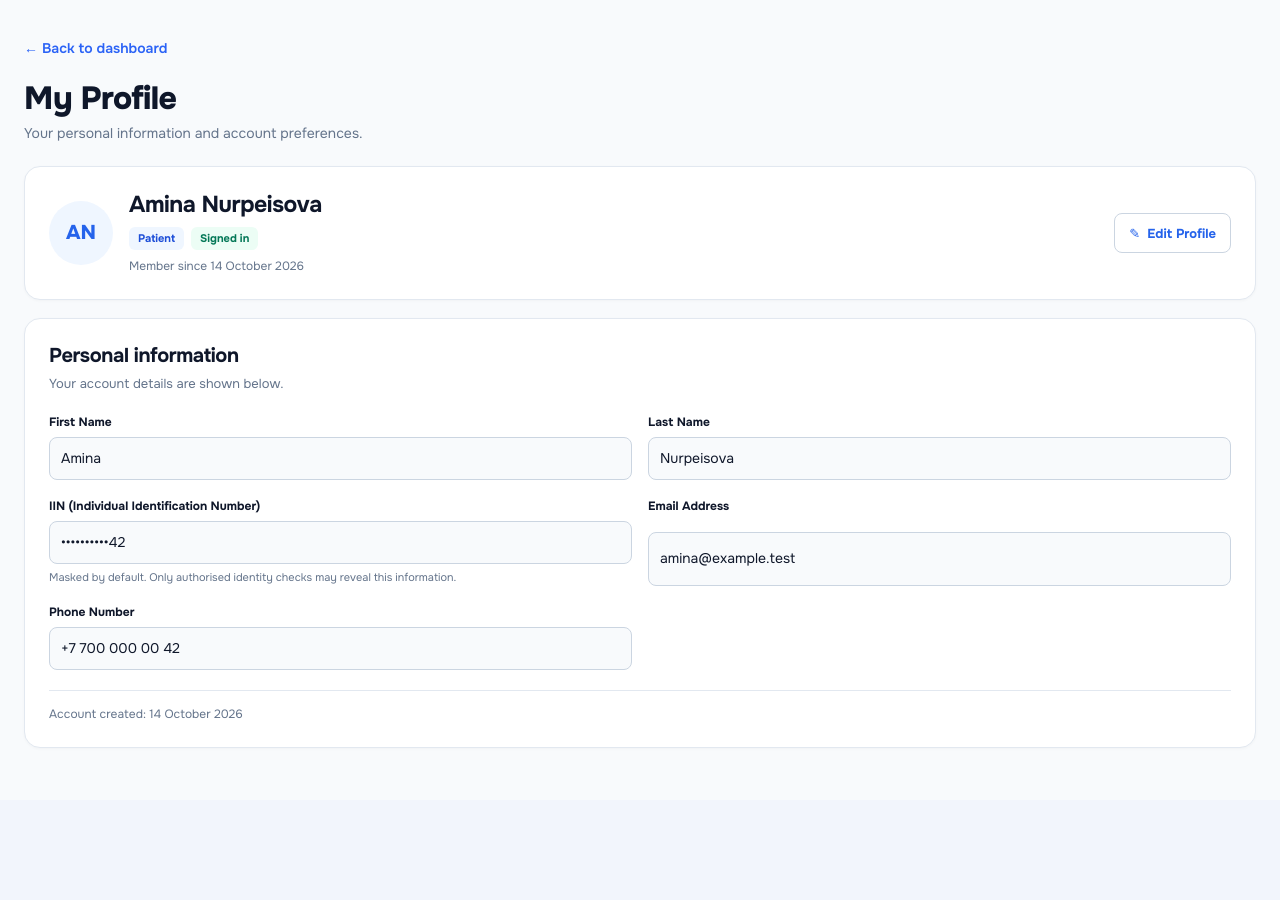
it: patient profile › saves editable contact details through the authenticated profile action
The width and height of the screenshot is (1280, 900).
Expected: the heading "Amina Nurpeisova" is shown, [129,191,322,220]
Click the button with aria-label "Edit personal profile" at (1173, 233), box [1114,213,1231,253]
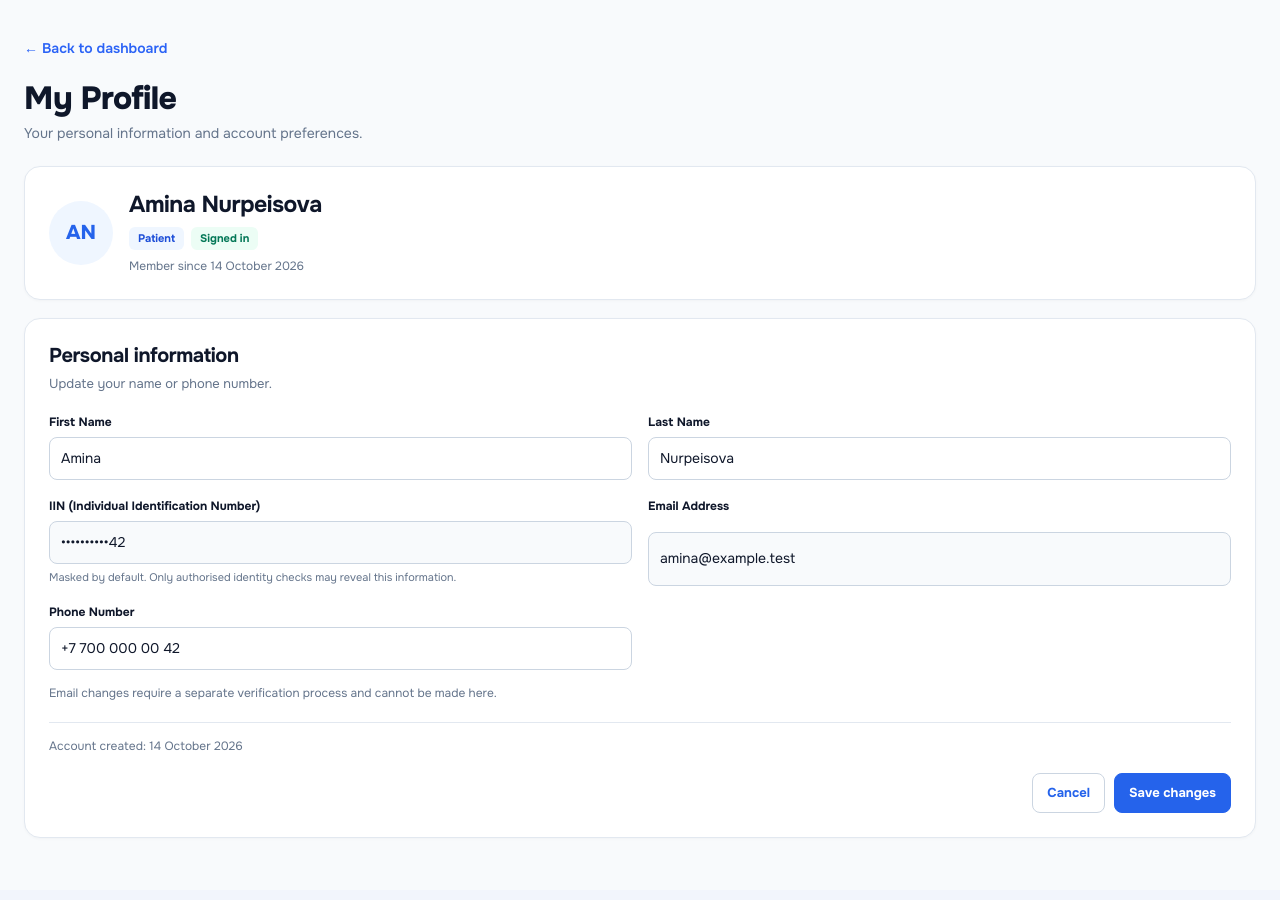
Replace the text in the field labelled "First Name" with "Amira" at (340, 458), box [49,437,632,480]
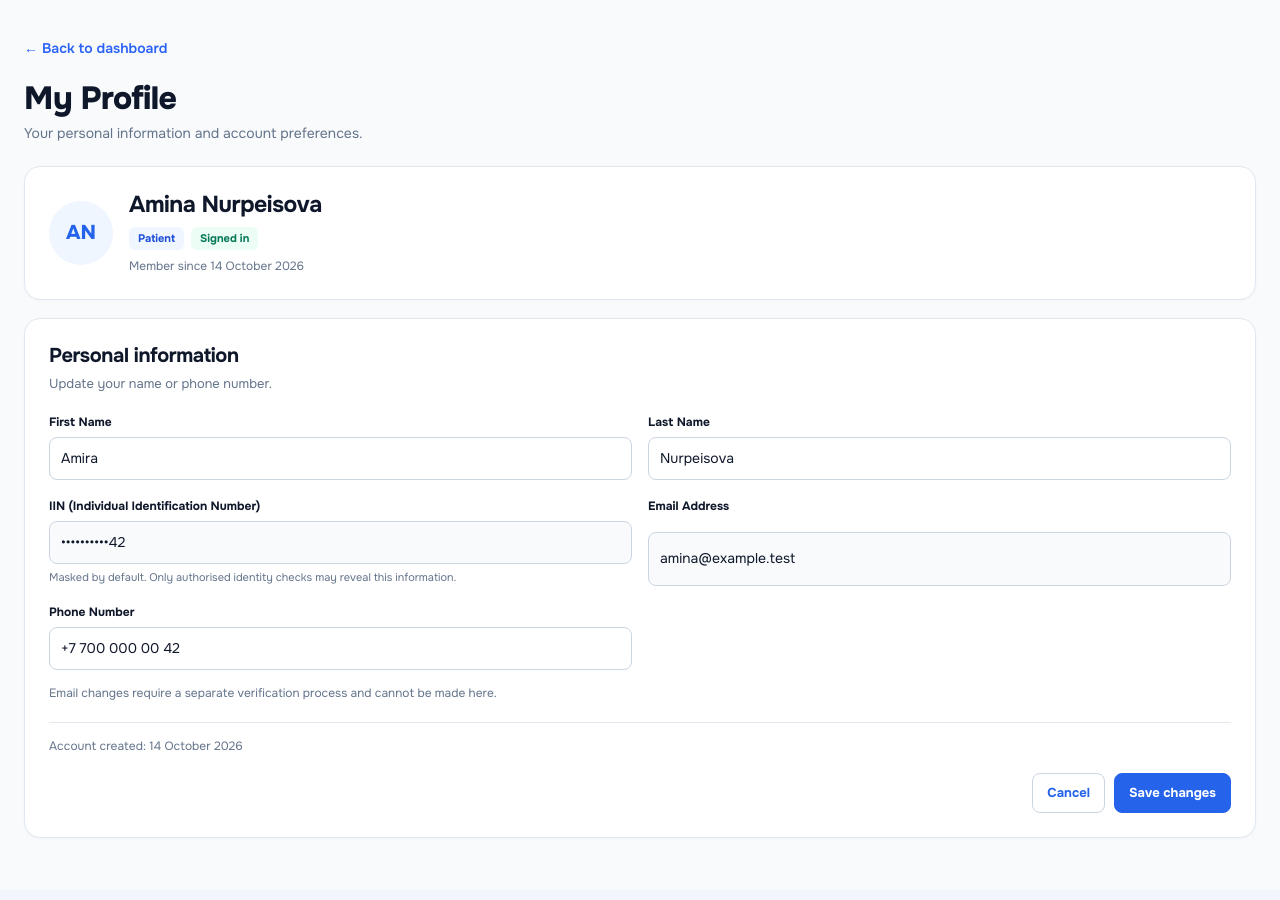
Click the button "Save changes" at (1172, 793), box [1114,773,1231,813]
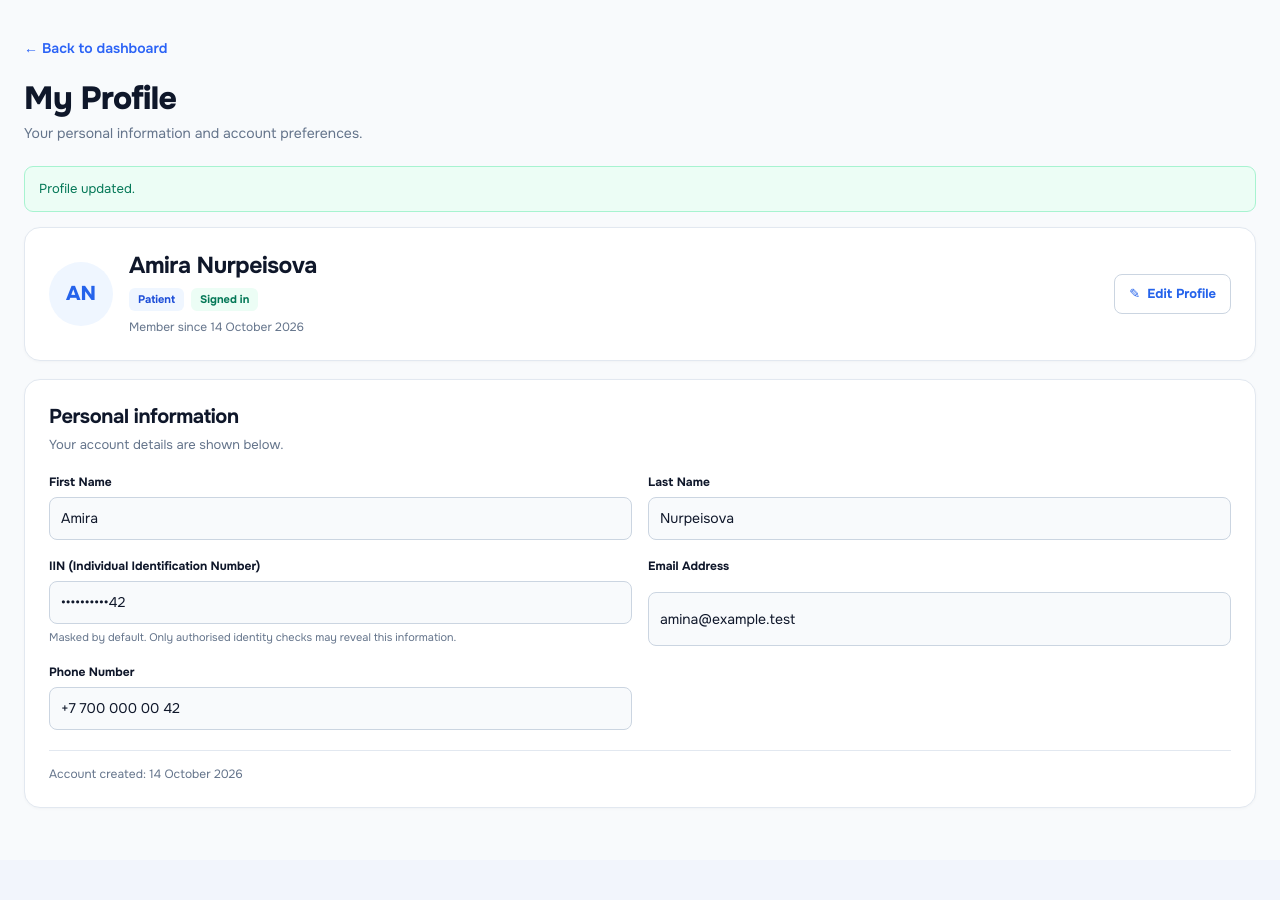
Expected: the message reads "Profile updated.", [39,180,135,197]
